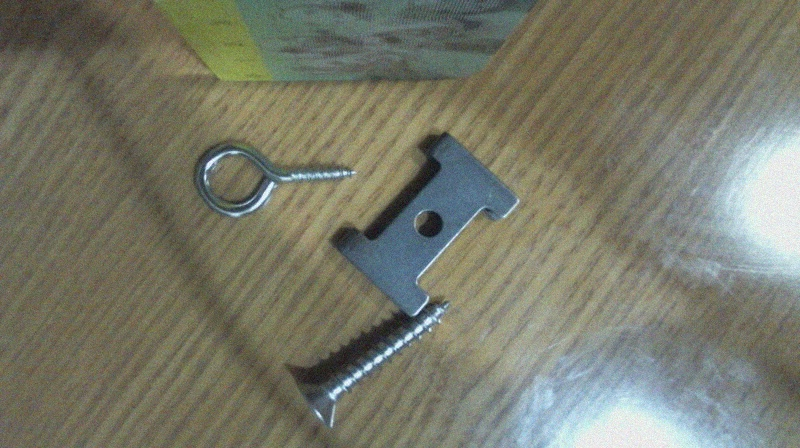O001: (190, 137, 358, 221)
O002: (328, 129, 523, 321)
S001: (290, 293, 453, 430)
